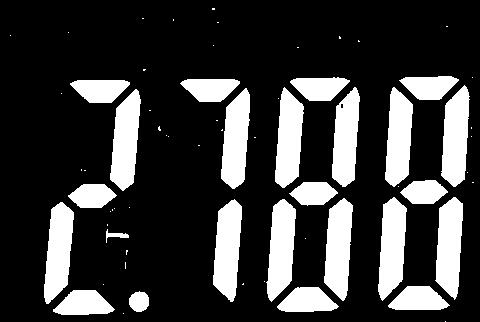2: (38, 76, 142, 314)
7: (176, 74, 254, 304)
8: (376, 75, 471, 313), (267, 76, 362, 313)
dot: (129, 288, 150, 311)
